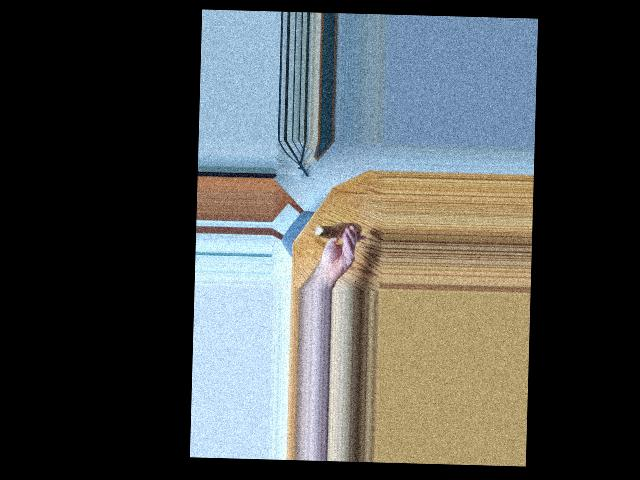sweet_potato: (318, 219, 358, 242)
